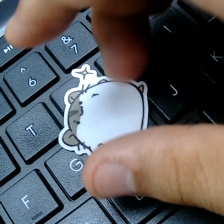mouse: (59, 63, 161, 168)
